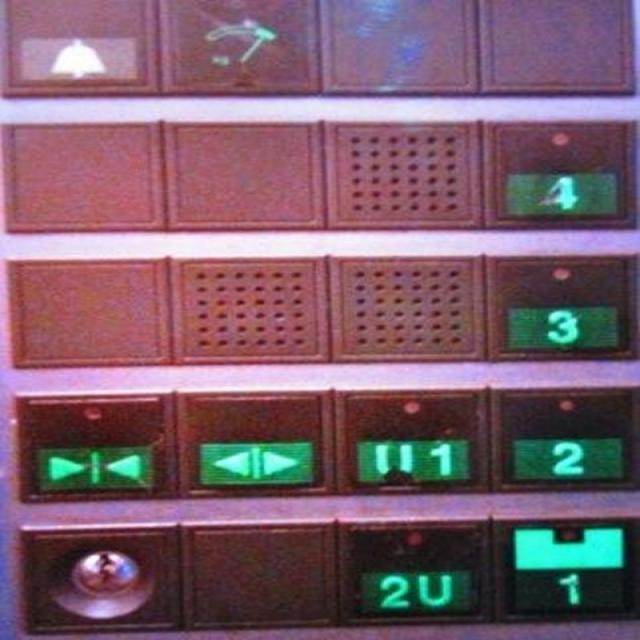1: (496, 517, 636, 624)
2: (496, 382, 637, 495)
2U: (333, 516, 492, 624)
3: (486, 254, 638, 360)
4: (483, 120, 637, 232)
U1: (336, 384, 488, 496)
alarm: (0, 0, 160, 96)
bt_keyhole: (12, 518, 180, 634)
close: (8, 389, 176, 502)
empty: (2, 255, 170, 370), (163, 121, 324, 232), (4, 122, 161, 230), (183, 518, 333, 630), (319, 0, 477, 94), (480, 0, 633, 96)
open: (176, 388, 332, 500)
speaker: (327, 252, 484, 364), (172, 254, 327, 367), (320, 122, 480, 230)
unknown: (160, 0, 317, 96)
